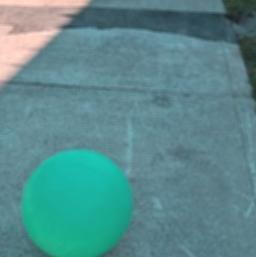algae: (20, 146, 133, 257)
